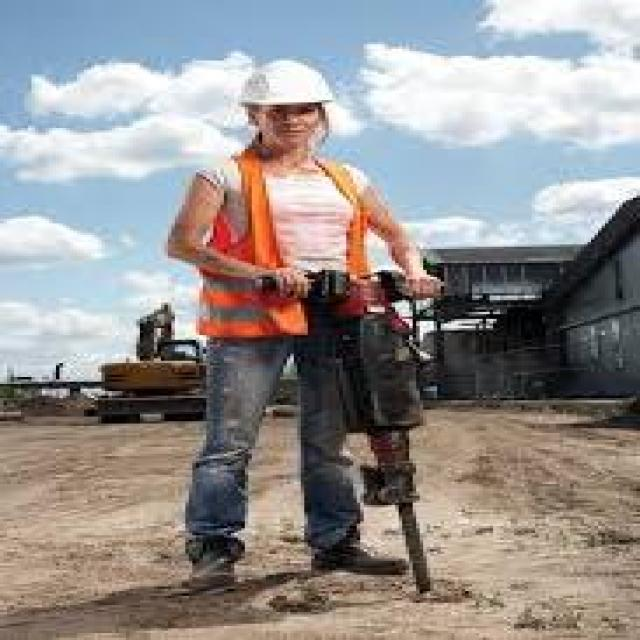Reflective-Jacket: (168, 142, 409, 361)
Safety-Helmet: (220, 51, 354, 119)
